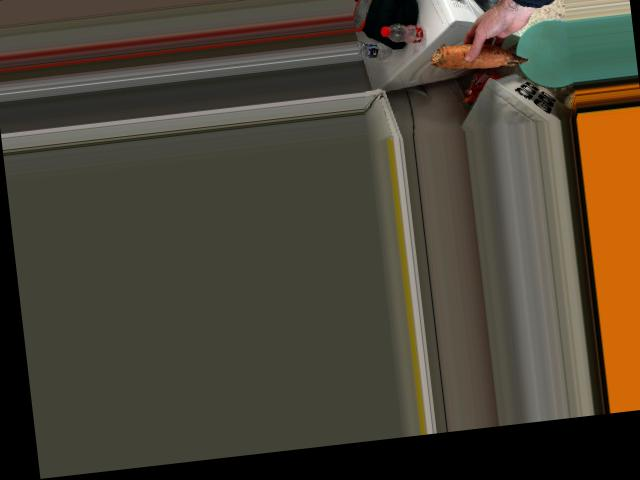sweet_potato: (425, 40, 529, 72)
